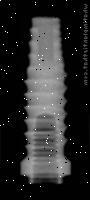BioHorizons: (20, 16, 71, 184)
